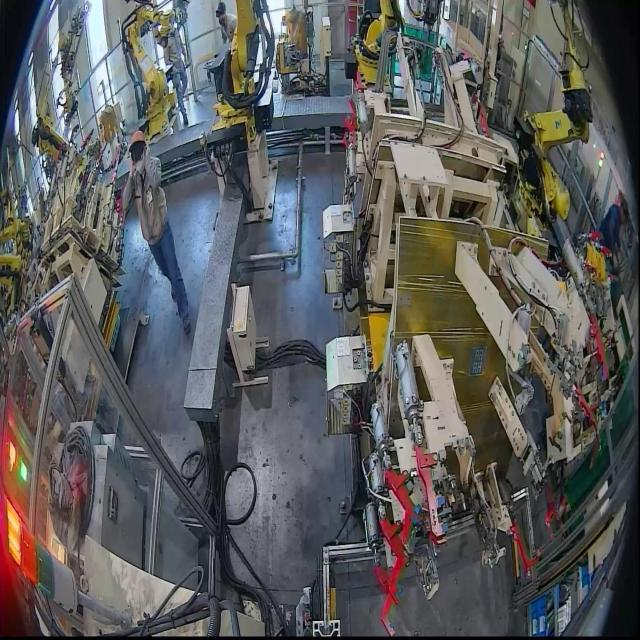Person: (122, 130, 191, 335), (164, 25, 188, 125), (598, 197, 628, 270), (215, 2, 237, 101), (215, 2, 237, 44)
